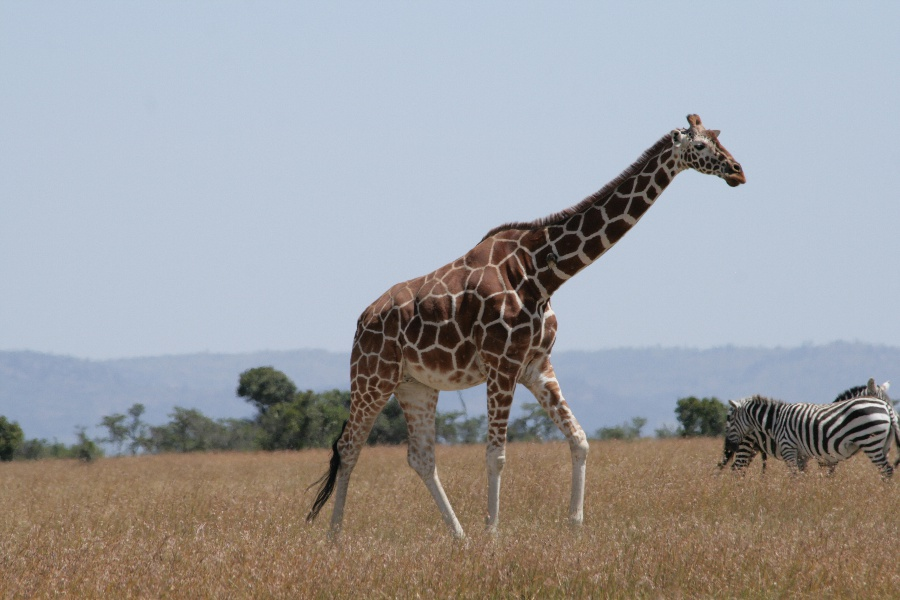giraffe: (308, 108, 752, 548)
